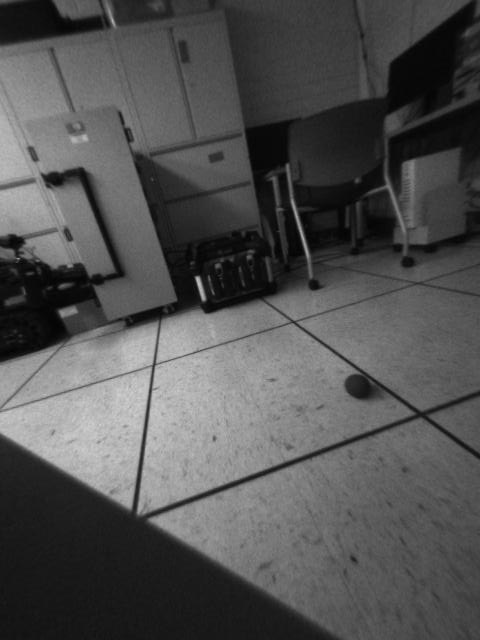dogtoy: (335, 366, 380, 406)
